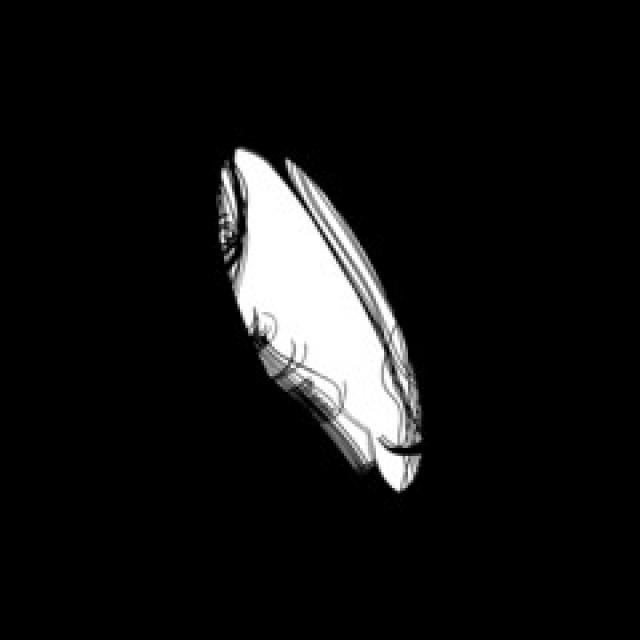Hole: (219, 148, 422, 493)
